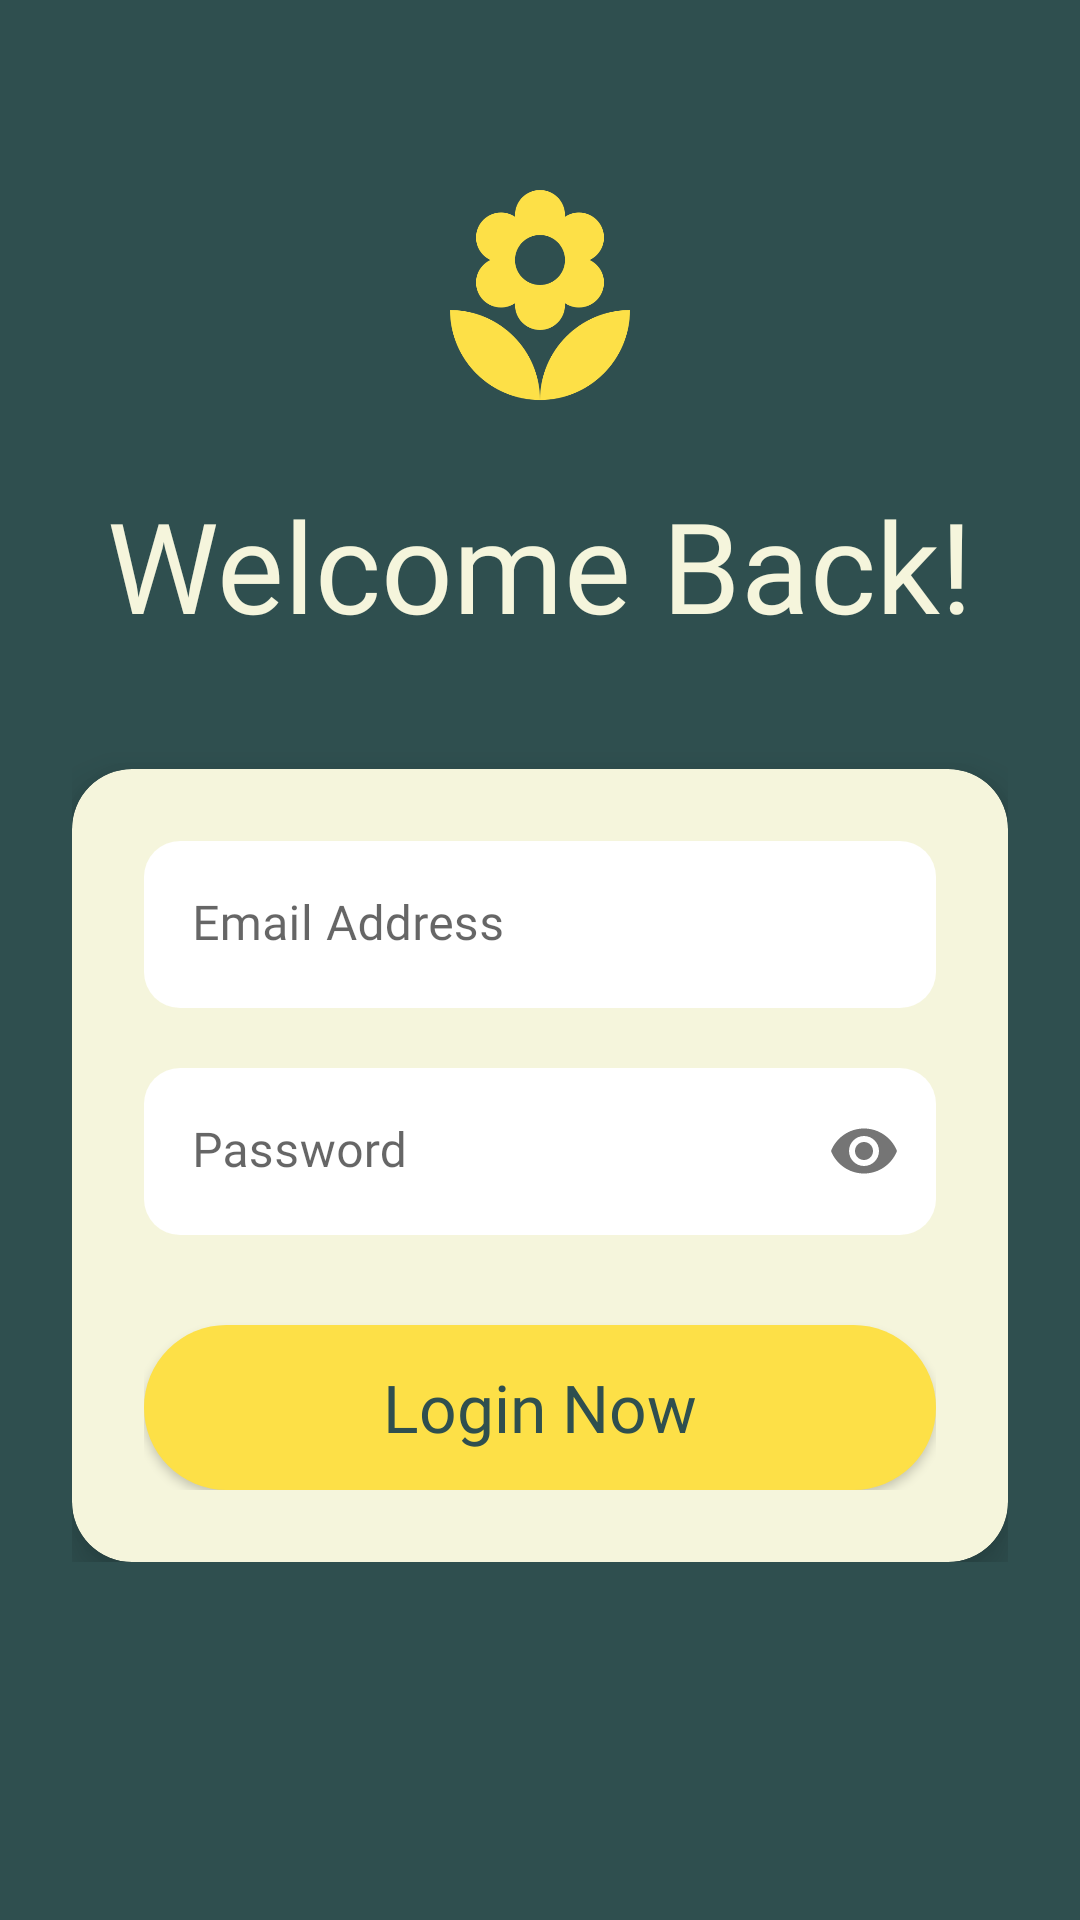

Point at icon controls on the screen. Image size 1080*1920, points as (x,y).
flower: (540,295)
